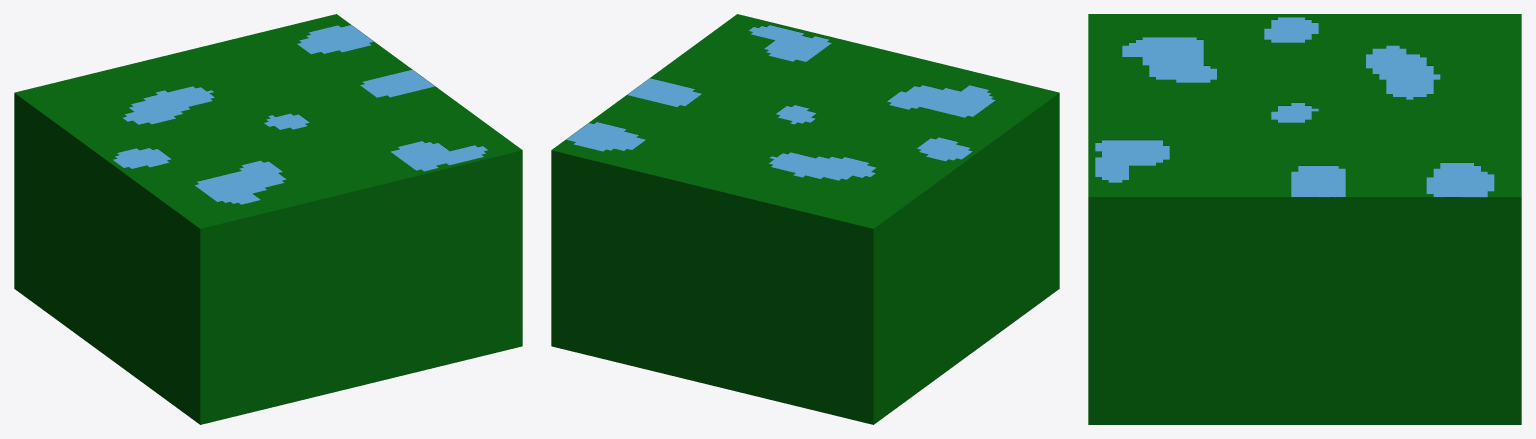
The model's file is terrain2.fbx.
The picture shows the model from 3 angles, left to right: view 1: azimuth 30°, elevation 25°; view 2: azimuth 150°, elevation 25°; view 3: azimuth 270°, elevation 25°; orthographic projection. The views are drawn at different scales.
Visible parts, largest first — view 1: Land Border, Land, Water.005, Water.003, Water.006, Water.002, Water.001, Water.008, Water, Water.013, Water.010; view 2: Land Border, Land, Water.005, Water.003, Water.006, Water.002, Water.001, Water.008, Water.013, Water, Water.010; view 3: Land Border, Land, Water.005, Water.003, Water.006, Water.002, Water.001, Water.008, Water, Water.013, Water.010, Water.011 (+2 smaller).
Part boxes in pixels (x1,y1,x2,y2): Land Border: [14, 25, 522, 424]; Land: [14, 14, 522, 228]; Water.005: [391, 141, 468, 171]; Water.003: [195, 171, 266, 201]; Water.006: [360, 70, 434, 97]; Water.002: [131, 90, 190, 123]; Water.001: [113, 148, 171, 168]; Water.008: [239, 160, 286, 187]; Water: [306, 25, 362, 44]; Water.013: [318, 33, 373, 52]; Water.010: [168, 86, 214, 106]; Land Border: [551, 78, 1059, 424]; Land: [551, 14, 1059, 228]; Water.005: [764, 29, 831, 61]; Water.003: [920, 88, 995, 117]; Water.006: [627, 78, 701, 106]; Water.002: [793, 156, 864, 180]; Water.001: [917, 137, 972, 161]; Water.008: [887, 85, 942, 109]; Water.013: [577, 122, 633, 142]; Water: [566, 131, 622, 151]; Water.010: [769, 152, 815, 172]; Land Border: [1088, 197, 1521, 424]; Land: [1088, 14, 1521, 196]; Water.005: [1095, 140, 1169, 168]; Water.003: [1142, 37, 1203, 65]; Water.006: [1291, 166, 1345, 197]; Water.002: [1366, 57, 1440, 79]; Water.001: [1264, 17, 1318, 42]; Water.008: [1149, 66, 1216, 82]; Water: [1460, 171, 1494, 197]; Water.013: [1426, 171, 1460, 197]; Water.010: [1386, 80, 1433, 99]; Water.011: [1366, 45, 1419, 57].
Size of the model in its own units: 10000 by 5810 by 10000.
